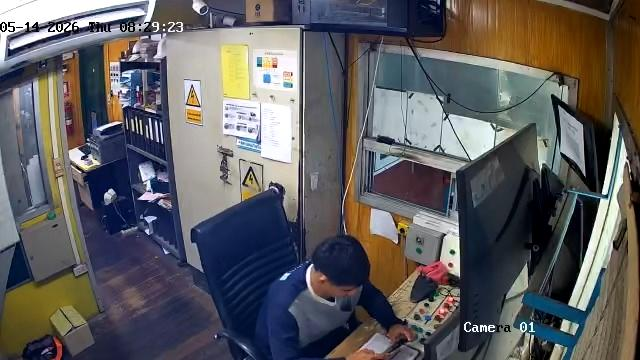Head: (310, 235, 373, 296)
People: (263, 234, 409, 360)
Phone: (383, 338, 409, 354)
